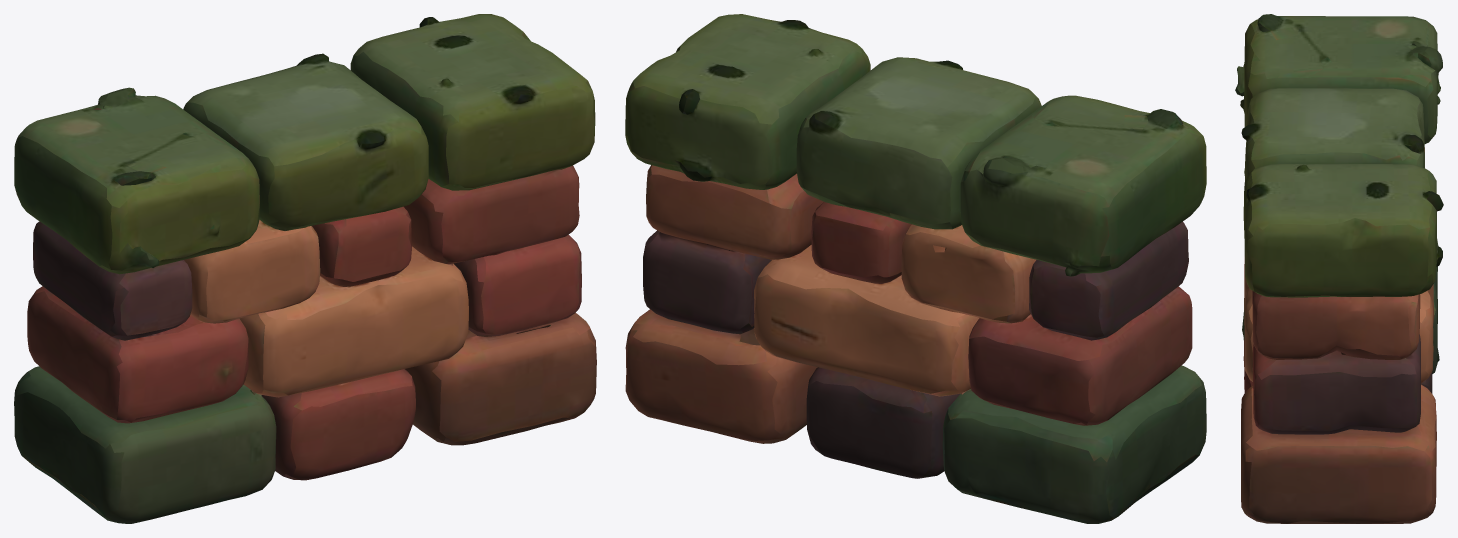
File: sz-drystone-wall.glb
3 views of the same model, side by side, from view 1: azimuth 30°, elevation 25°; view 2: azimuth 150°, elevation 25°; view 3: azimuth 270°, elevation 25° (orthographic). The views are drawn at different scales.
Parts seen in each view (by area): view 1: geometry_0; view 2: geometry_0; view 3: geometry_0.
Part boxes in pixels (<box>): geometry_0: <box>14,14,596,523</box>; geometry_0: <box>625,14,1206,523</box>; geometry_0: <box>1235,14,1443,523</box>.
Bounding box in the file's own units: 1 × 0.6793 × 0.4087.
1 material, 1 textured.
